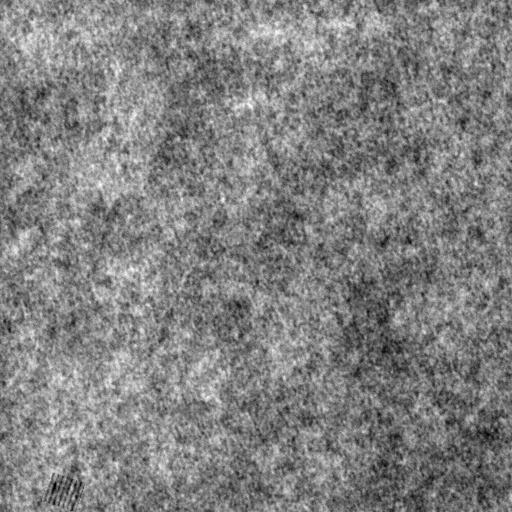DefectTypeB: (42, 471, 84, 509)
